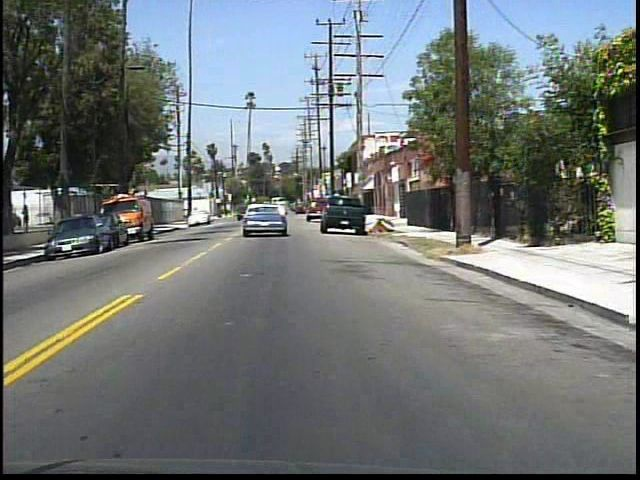person: (21, 203, 35, 234)
